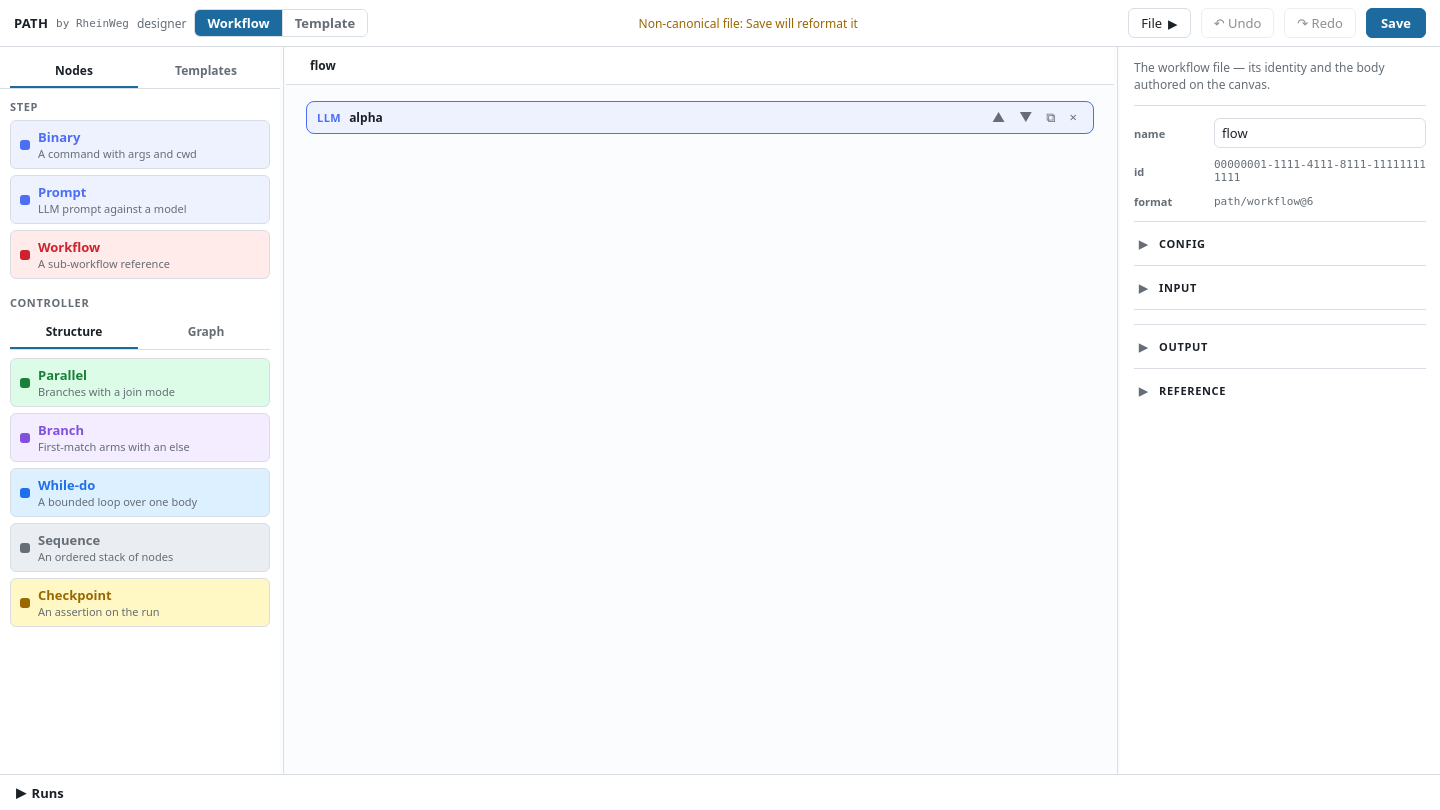
it: config value mode selector › wraps a value as $env and shows a reference-only chip, never a resolved value
Expected: the text "alpha" is shown, [349,109,383,126]
Click the text "alpha".
click(700, 118)  # box [306,101,1094,134]
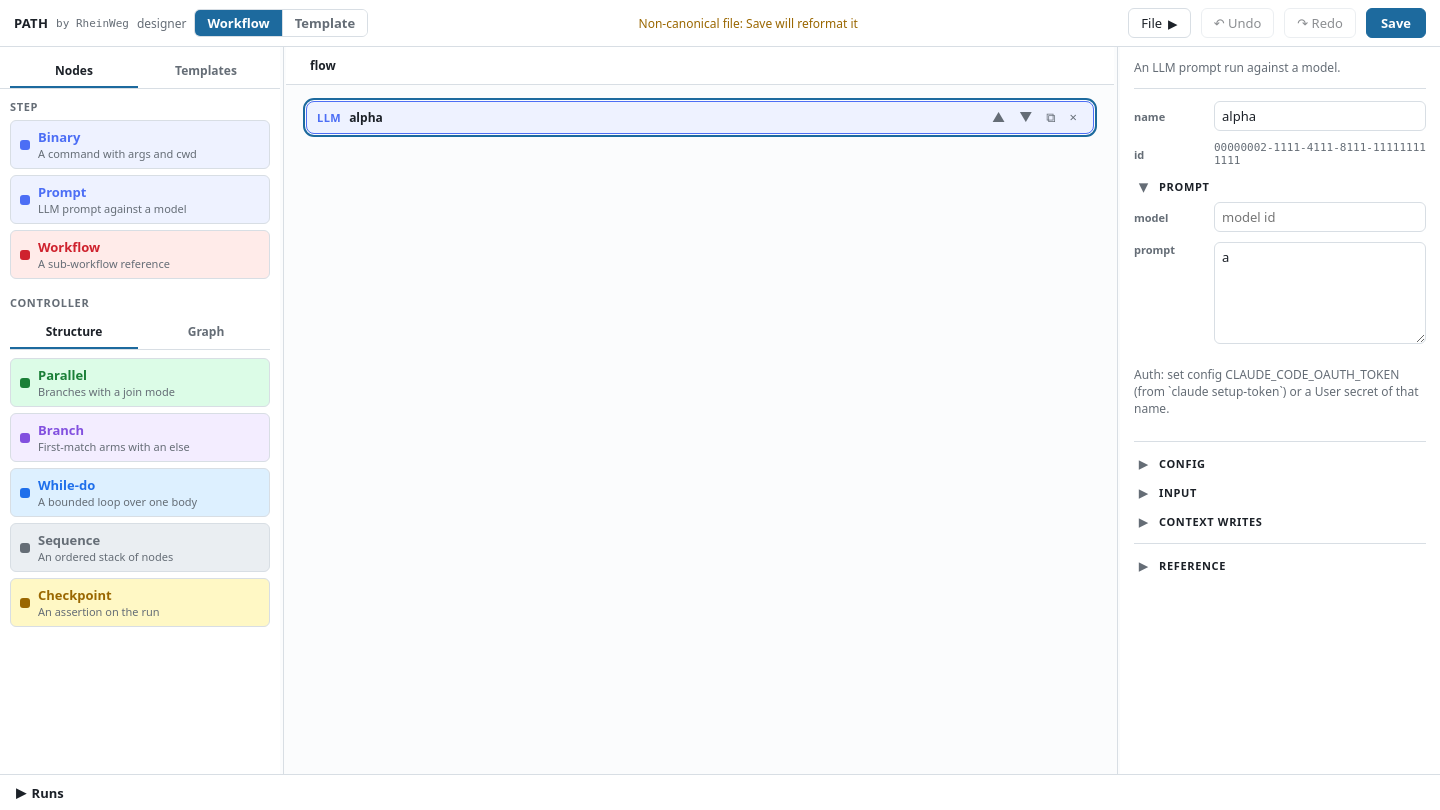
Click the button "▸ config".
click(1170, 464)  # box [1134,454,1206,473]
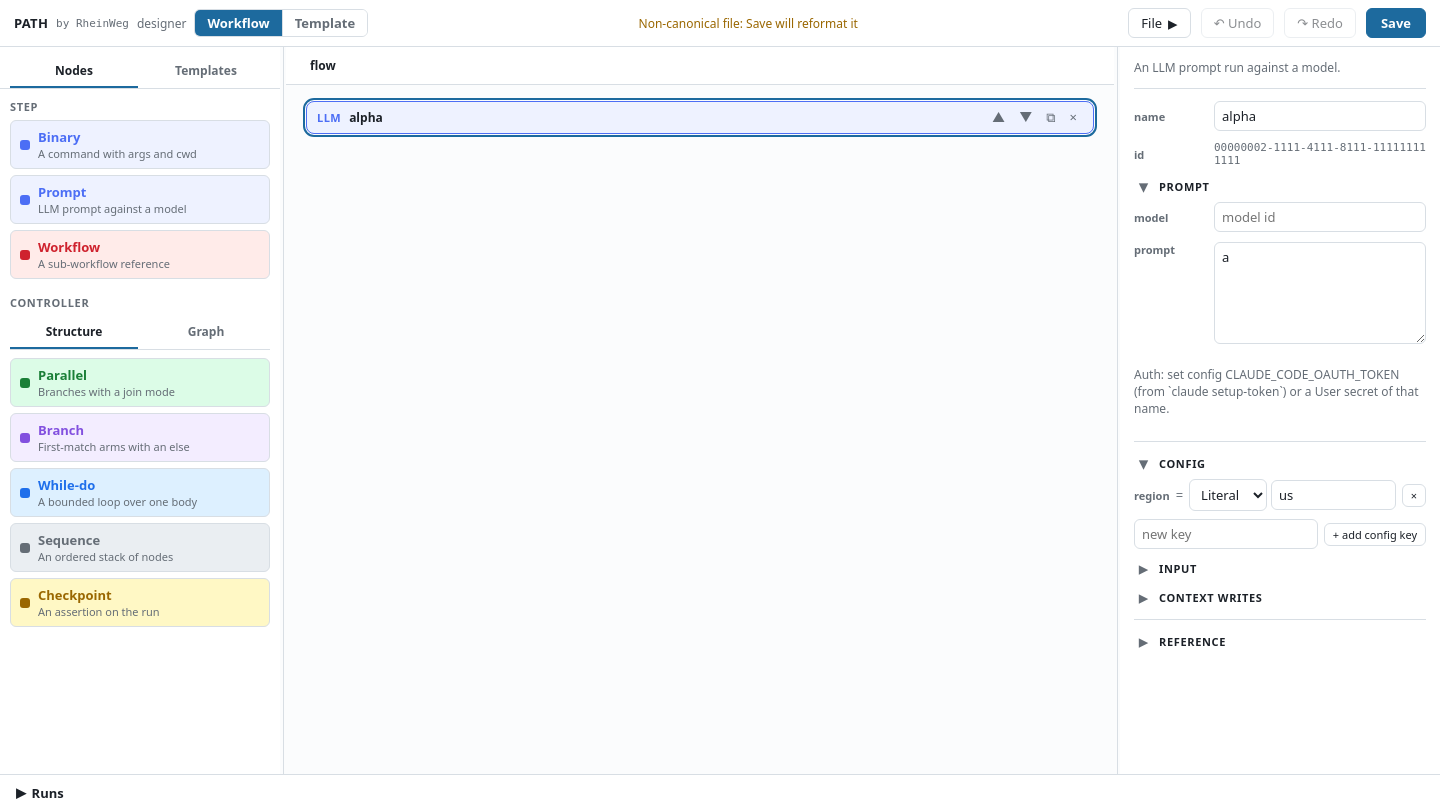
Select "$env" in the dropdown named "region mode" at point(1228, 495), box [1189,479,1267,511]
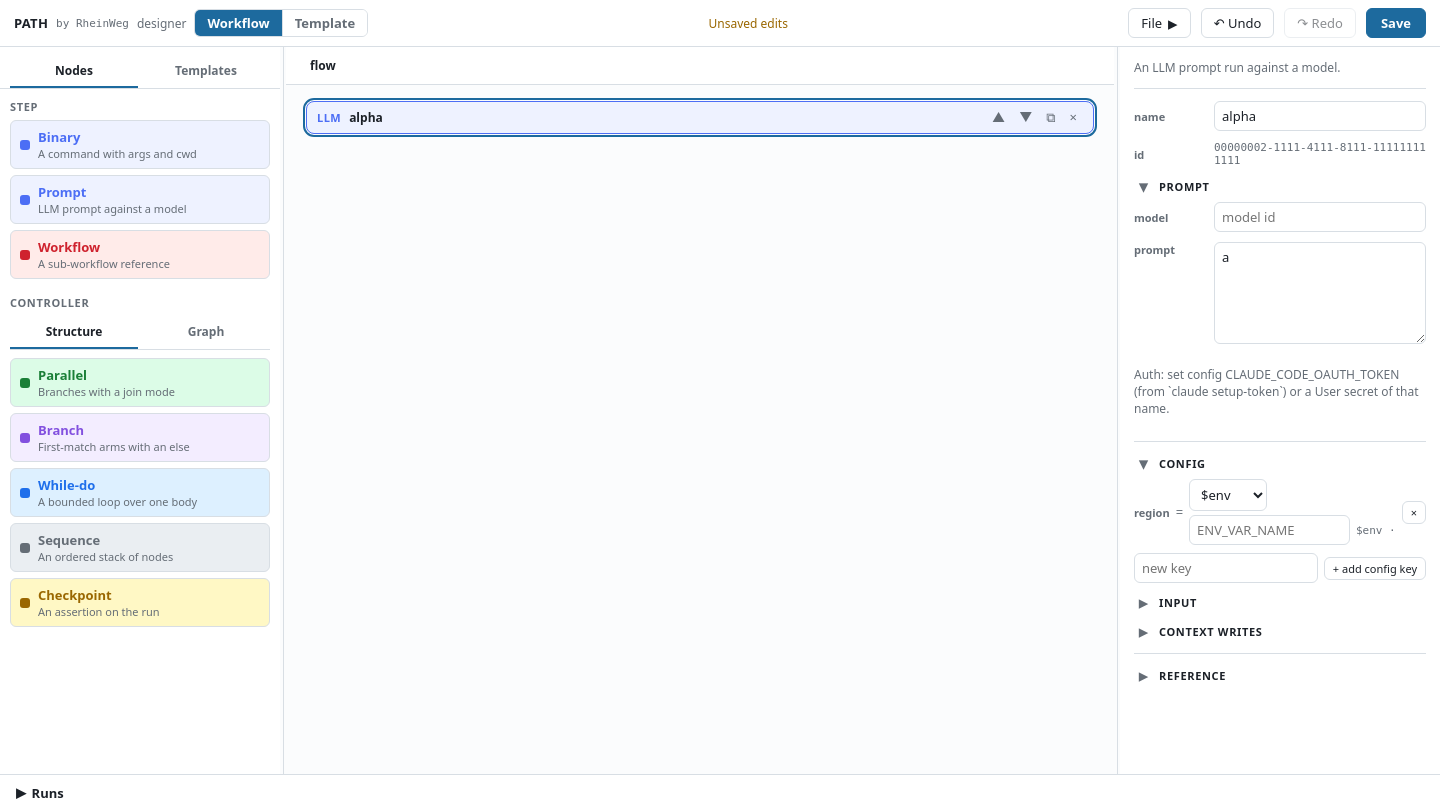
Type "OPENAI_KEY" into the field named "region $env variable".
click(1270, 530); type("OPENAI_KEY")  # box [1189,515,1350,545]
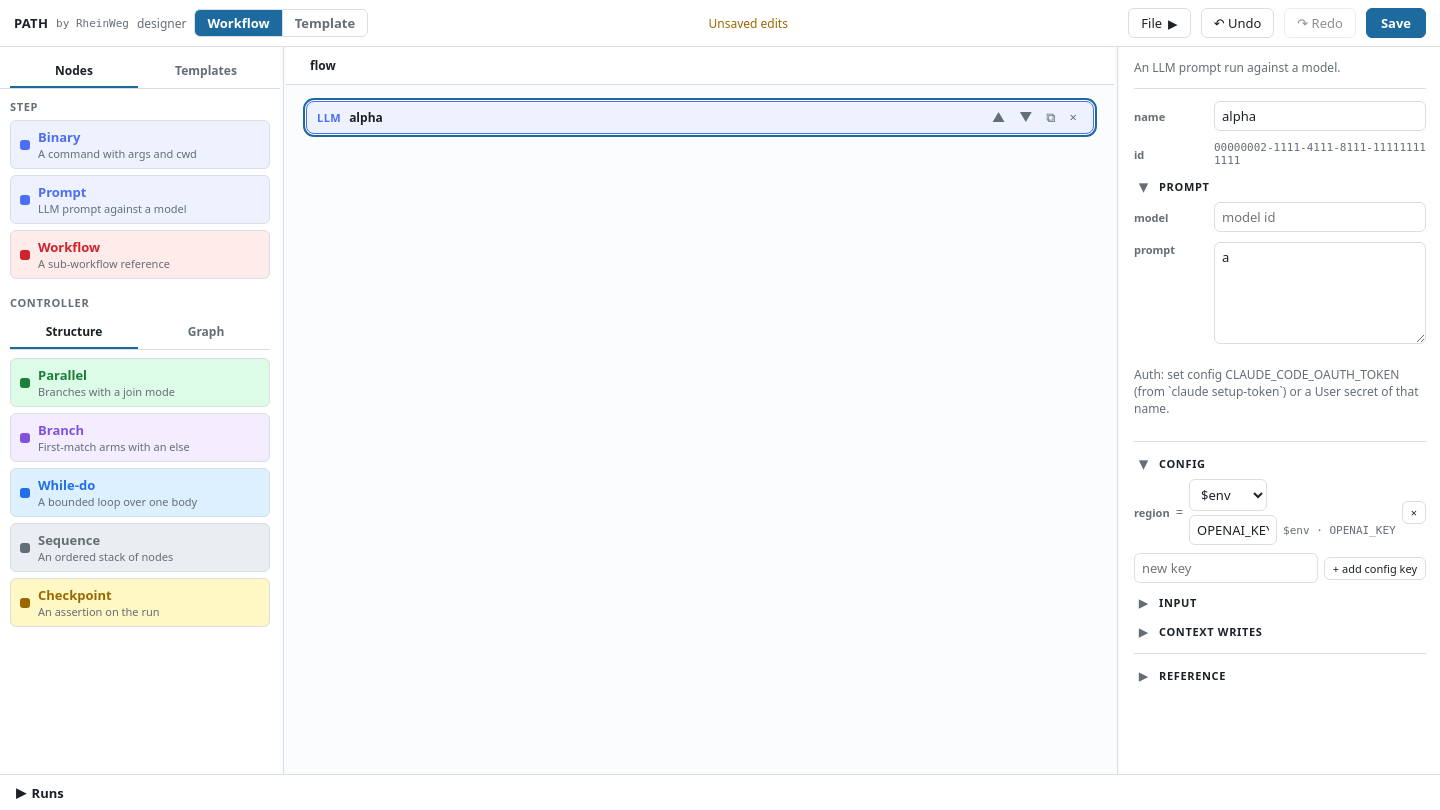
Expected: the text "$env · OPENAI_KEY" is shown, [1283,524,1396,536]
